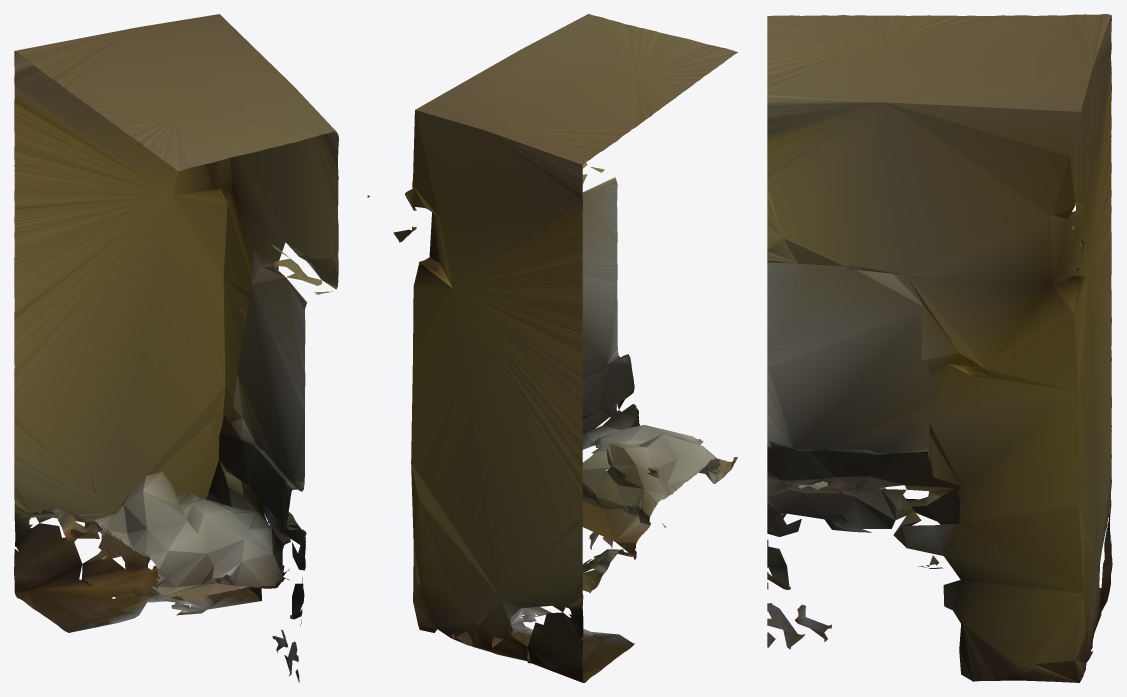
Rendered from coarse.glb.
The picture shows the model from 3 angles, left to right: view 1: azimuth 30°, elevation 25°; view 2: azimuth 150°, elevation 25°; view 3: azimuth 270°, elevation 25°; orthographic projection. The views are drawn at different scales.
Size of the model in its own units: 1.27 by 2.71 by 1.47.
